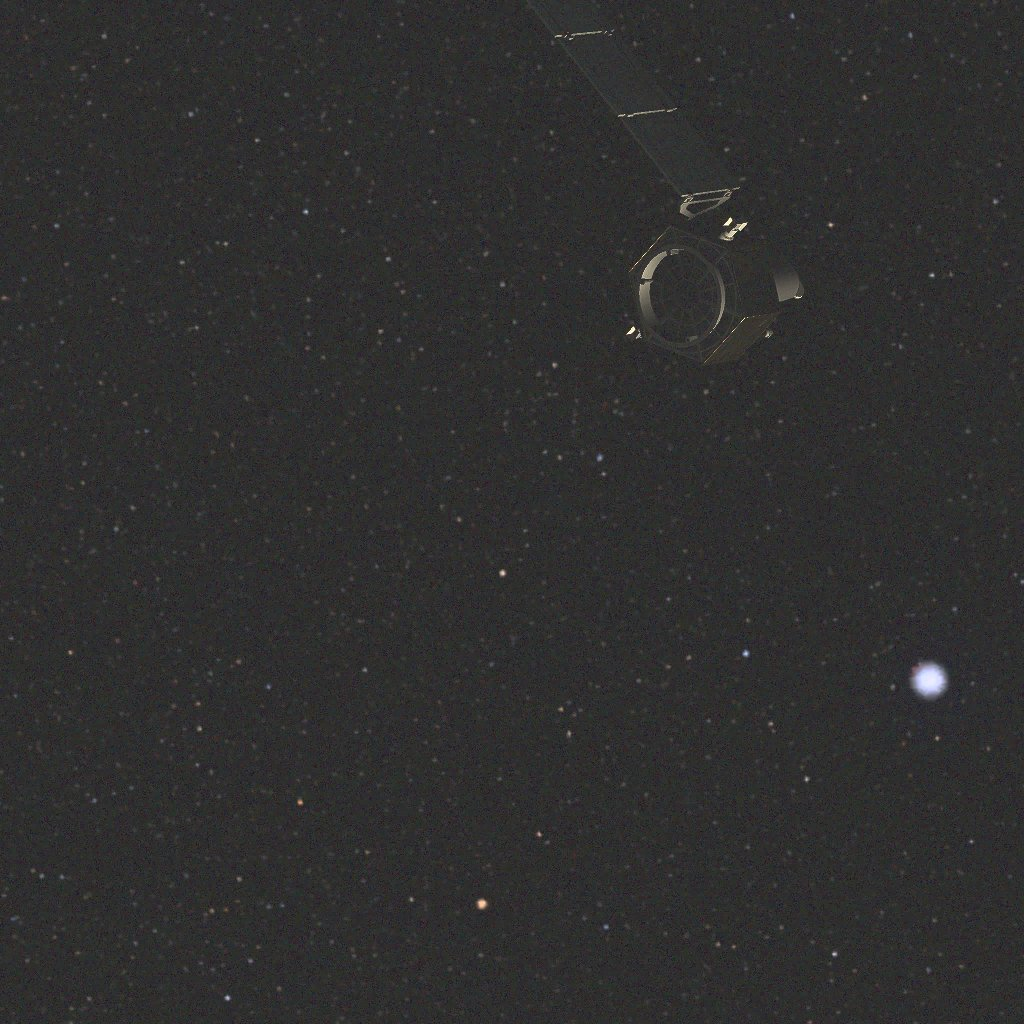earth_observation_sat_1: (526, 0, 804, 366)
